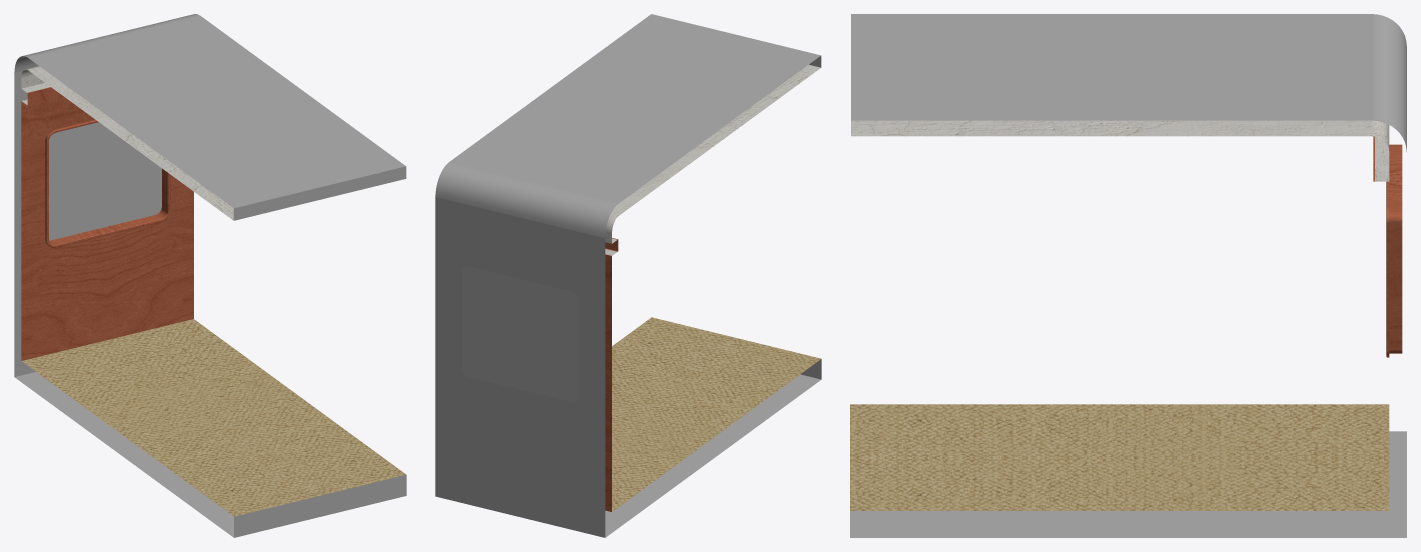
File: interiorWindow.fbx
3 renders of one model, left to right at view 1: azimuth 30°, elevation 25°; view 2: azimuth 150°, elevation 25°; view 3: azimuth 270°, elevation 25°, orthographic. The views are drawn at different scales.
Visible parts, largest first — view 1: InteriorWindow; view 2: InteriorWindow; view 3: InteriorWindow.
Part boxes in pixels (x1=…): InteriorWindow: x1=14, y1=14, x2=406, y2=537; InteriorWindow: x1=435, y1=14, x2=821, y2=537; InteriorWindow: x1=850, y1=14, x2=1406, y2=537.
Size of the model in its own units: 3.49 by 6.37 by 7.71.
6 materials, 3 textured.
